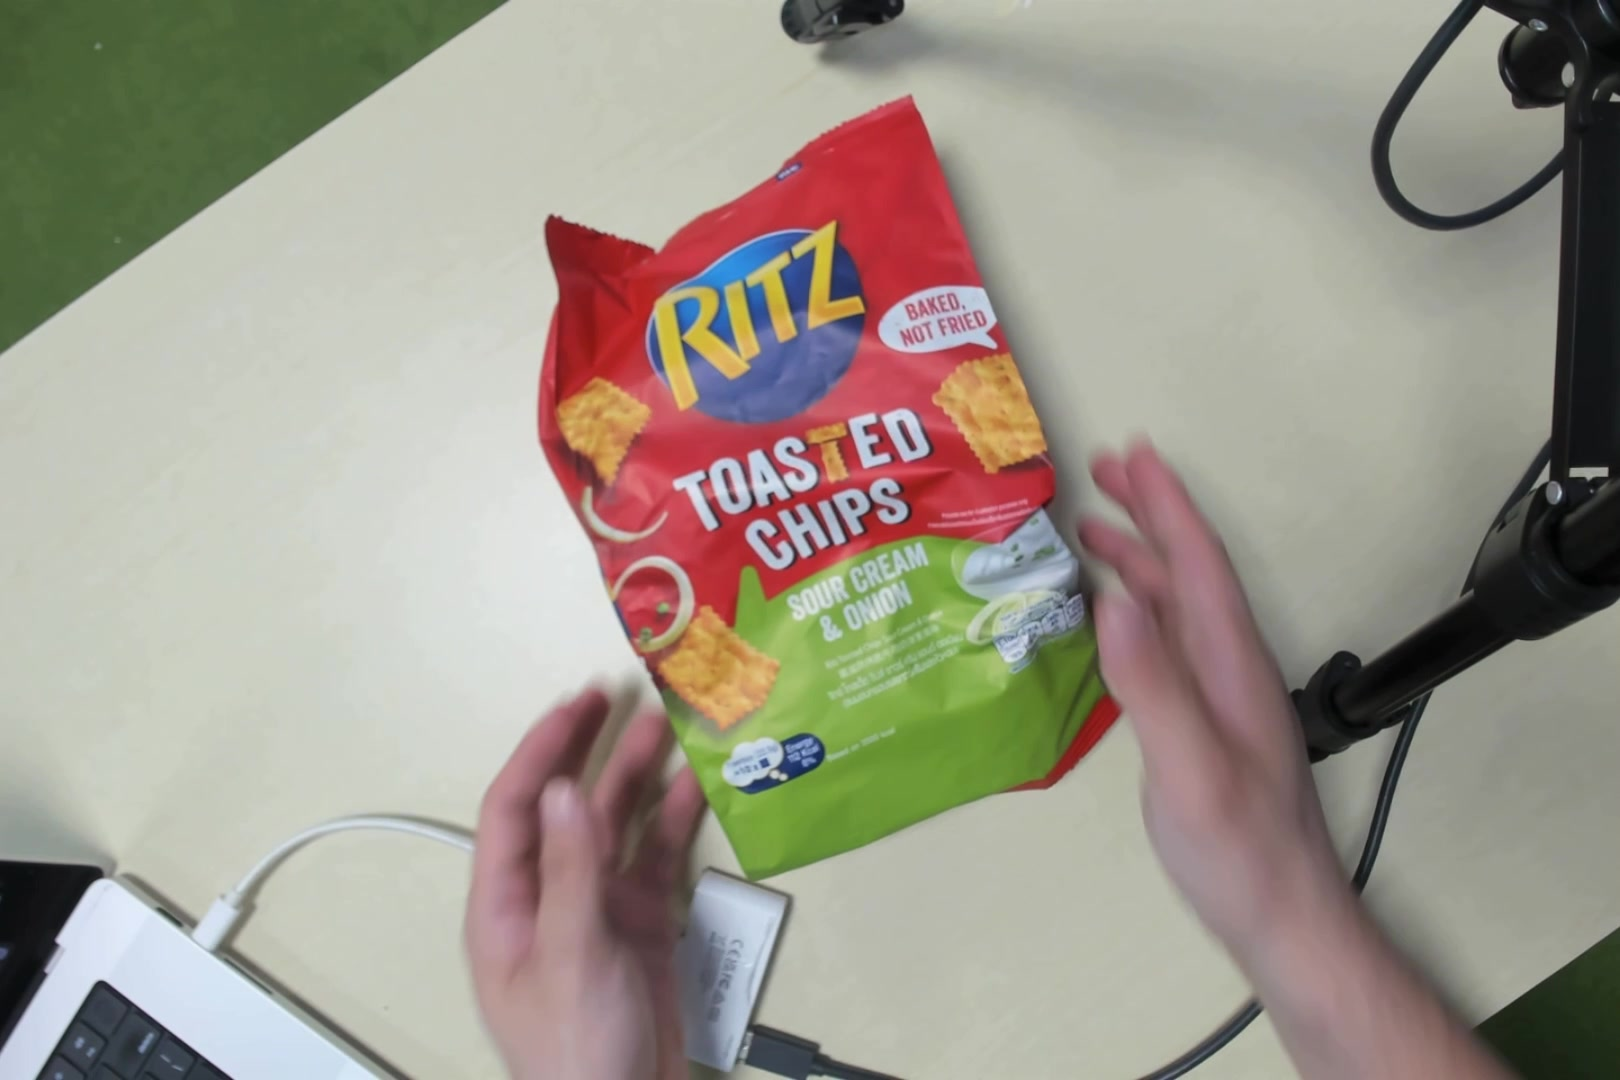BiscuitsCrackersCookies_200-299g_NonHalal_NonHealthy: (563, 154, 1104, 870)
